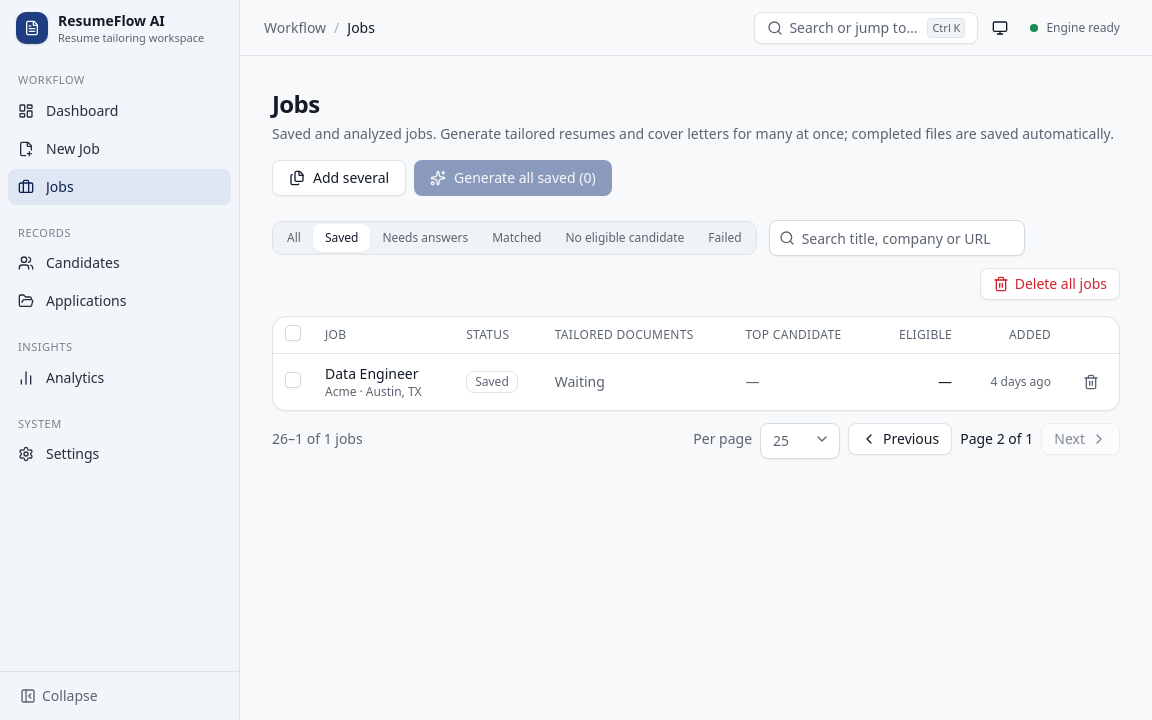
Test: deleting jobs from the workspace › deletes all jobs, applications and generated files after typed confirmation
Click the button "Delete all jobs". click: x=1050, y=284
box: [980,268,1120,300]
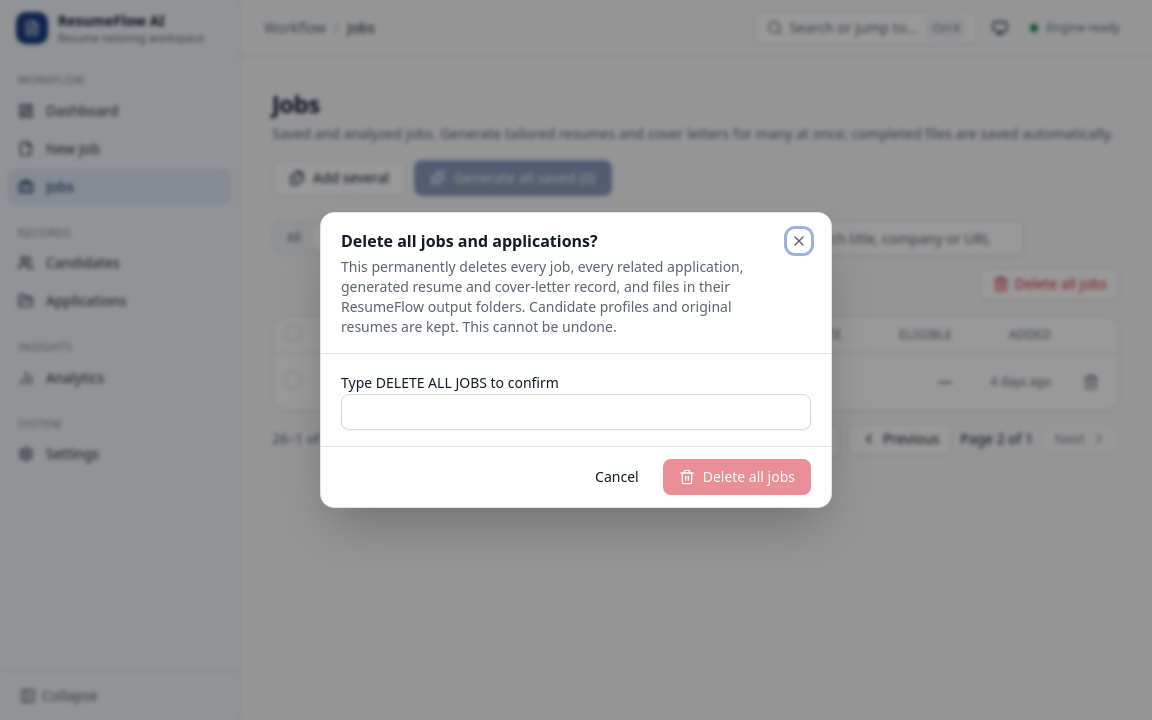
expect the text "candidate profiles and original resumes are kept" is shown: met, box [341,257,744,336]
expect the button "Delete all jobs" is disabled: met, box [663,459,811,495]
Type "DELETE ALL JOBS" into the field labelled "Type DELETE ALL JOBS to confirm". click: x=576, y=412
box: [341,394,811,430]
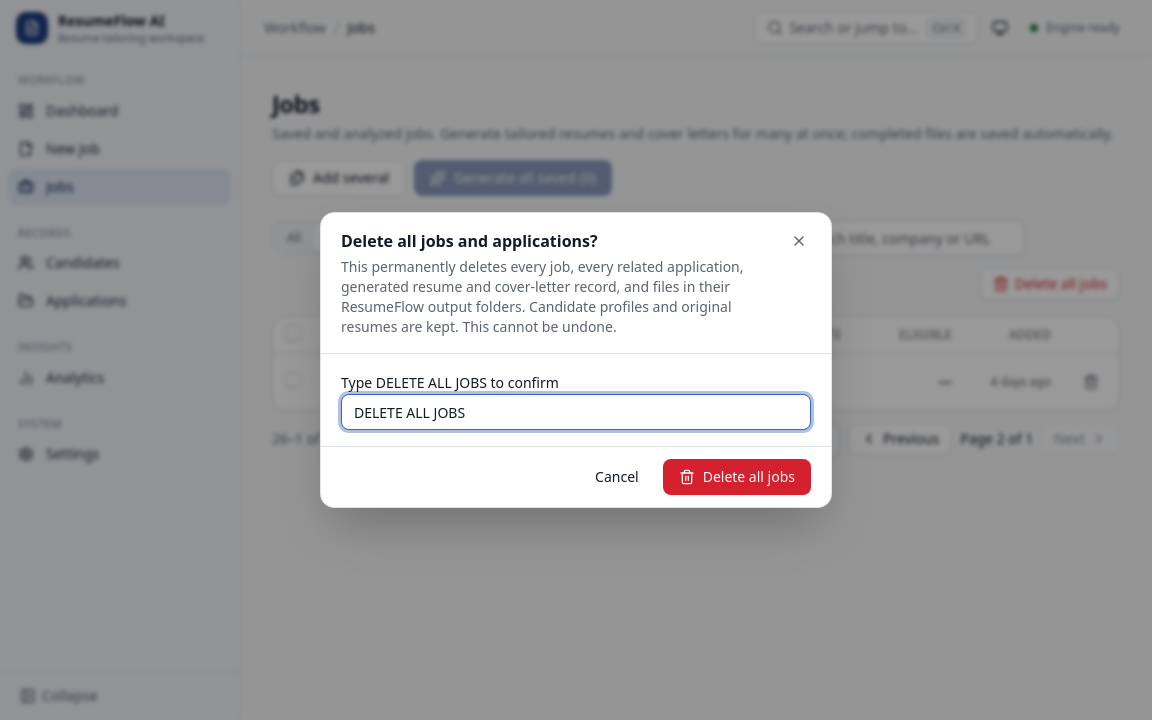
expect the button "Delete all jobs" is enabled: met
Click the button "Delete all jobs". click: x=737, y=477
box: [663,459,811,495]
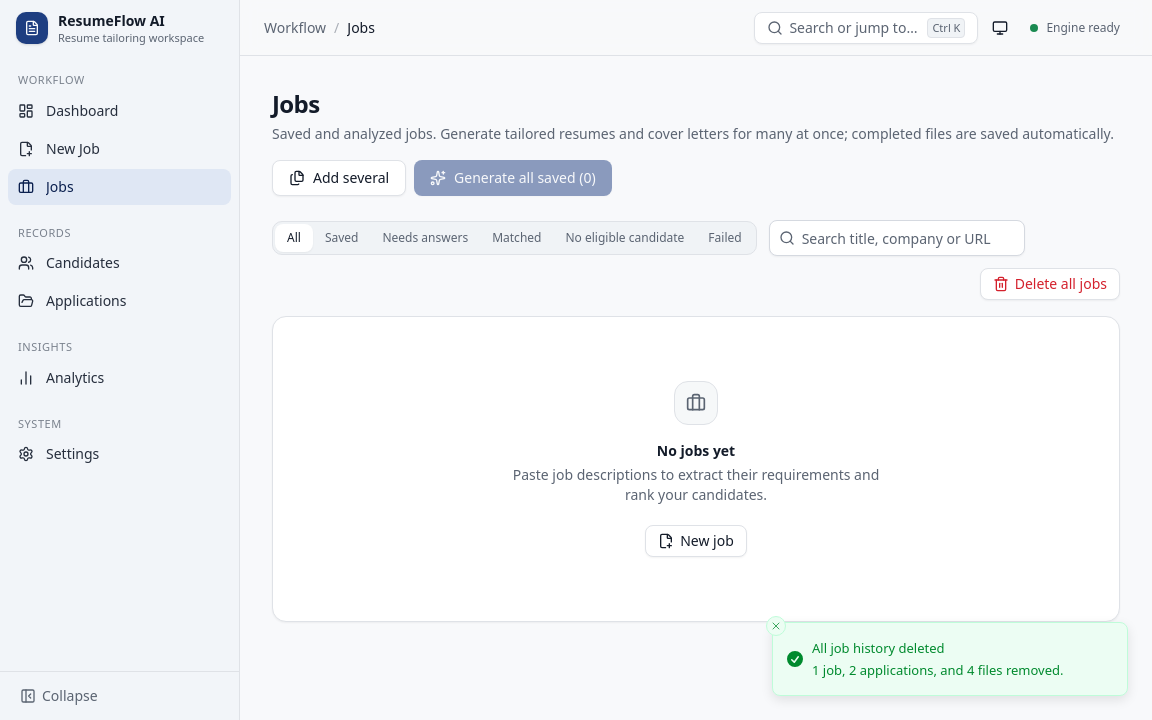
expect the heading "No jobs yet" is shown: met, box [657,441,735,461]
expect the text "All job history deleted" is shown: met, box [812,639,945,657]
